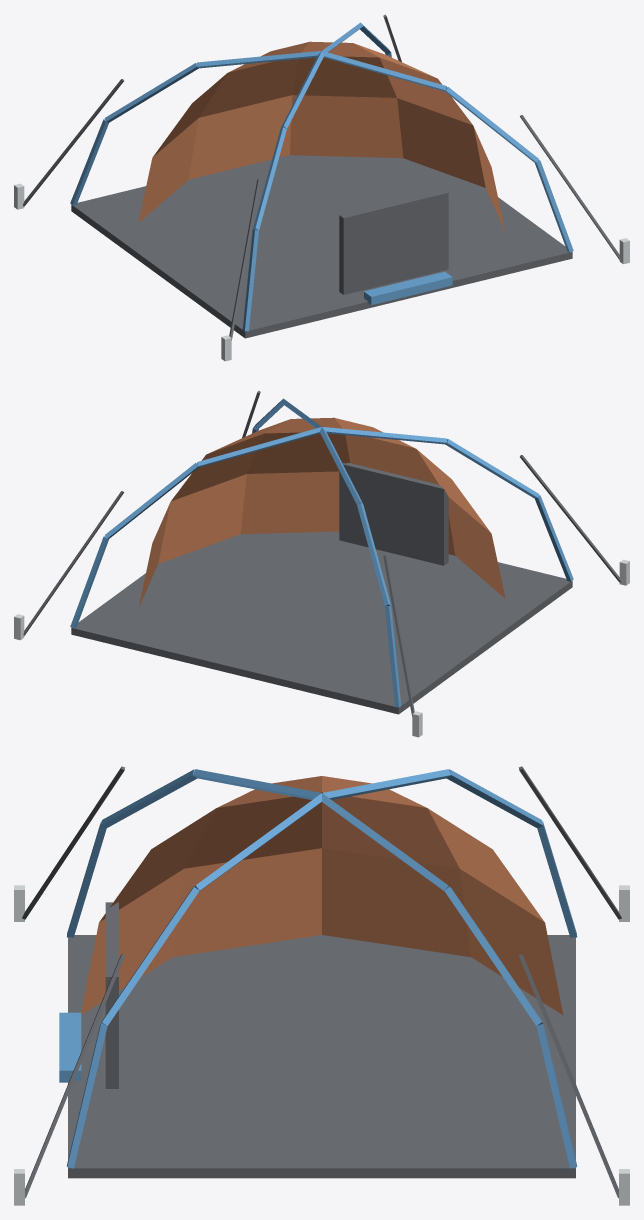
The model's file is caravan-park-and-campsite-dome-tent-72989d5b__35345.glb.
The picture shows the model from 3 angles, top to bottom: view 1: azimuth 30°, elevation 25°; view 2: azimuth 150°, elevation 25°; view 3: azimuth 270°, elevation 25°; orthographic projection. The views are drawn at different scales.
Parts seen in each view (by area): view 1: dome-tent-charcoal, dome-tent-flame, dome-tent-azure, dome-tent-galv; view 2: dome-tent-charcoal, dome-tent-flame, dome-tent-azure, dome-tent-galv; view 3: dome-tent-charcoal, dome-tent-flame, dome-tent-azure, dome-tent-galv.
Boxes of the visible parts, left/top/right/bottom form: dome-tent-charcoal: left=22, top=14, right=620, bottom=340; dome-tent-flame: left=138, top=41, right=505, bottom=231; dome-tent-azure: left=70, top=22, right=573, bottom=331; dome-tent-galv: left=14, top=183, right=629, bottom=361; dome-tent-charcoal: left=23, top=390, right=621, bottom=716; dome-tent-flame: left=138, top=417, right=505, bottom=607; dome-tent-azure: left=70, top=398, right=573, bottom=707; dome-tent-galv: left=14, top=559, right=629, bottom=737; dome-tent-charcoal: left=22, top=766, right=621, bottom=1198; dome-tent-flame: left=81, top=776, right=563, bottom=1014; dome-tent-azure: left=59, top=769, right=577, bottom=1168; dome-tent-galv: left=14, top=885, right=629, bottom=1205.
Bounding box in the file's own units: 3.09 × 1.34 × 2.79.
